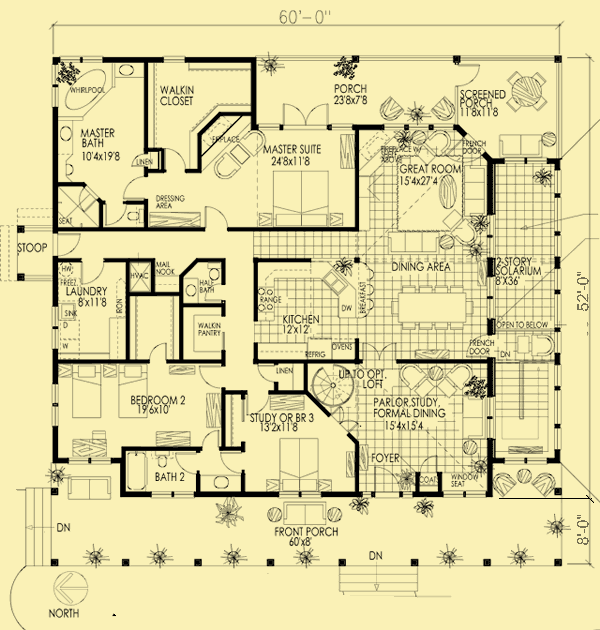bathroom has a bathtub with small and large sink: (121, 445, 247, 496)
bedroom has a double bed with bedside stands: (242, 390, 357, 494)
bedroom has twin beds with bedside stands: (50, 359, 201, 455)
hall has a dining table for eating: (374, 268, 495, 361)
kitchen has cooking range with twin sink and counter: (255, 257, 393, 364)
laundry room has washer and dryer: (58, 258, 132, 359)
livingroom has small and large sofas with tables: (354, 121, 495, 265), (354, 361, 491, 497)
master bathroom has bathtub and shower space with small and large sink: (52, 53, 147, 229)
master bedroom has a double bed with bedside stands: (196, 110, 354, 228)
open area has stairs: (495, 330, 568, 469)
small bathroom has small and large sink: (178, 258, 228, 308)
